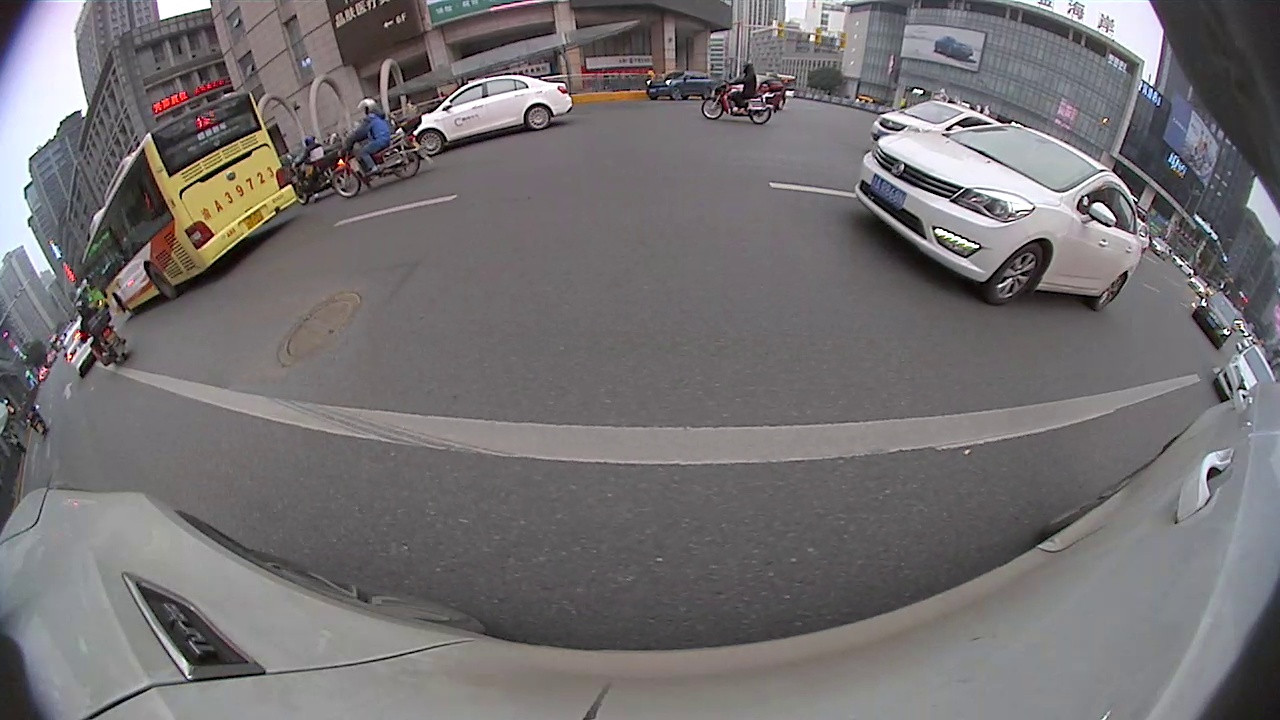bus: (82, 93, 292, 322)
car: (856, 126, 1148, 316), (414, 69, 572, 156), (1220, 347, 1276, 402), (1193, 293, 1243, 348)
front: (986, 241, 1045, 307), (329, 166, 364, 198), (416, 129, 447, 159), (701, 95, 725, 122)
rear: (1091, 271, 1125, 315), (144, 263, 179, 301), (394, 149, 423, 184), (523, 104, 554, 133), (748, 107, 774, 129)
rider: (337, 100, 421, 191), (701, 62, 778, 131), (83, 291, 120, 369)
